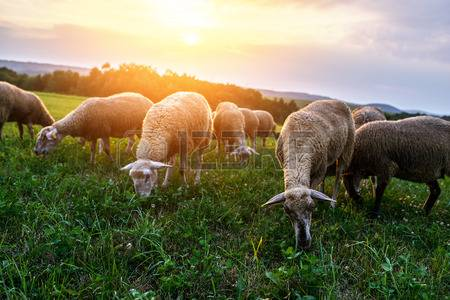sheep: (276, 90, 353, 242), (124, 82, 211, 208), (352, 116, 450, 214), (32, 87, 146, 162), (211, 97, 259, 165), (1, 77, 54, 125)
